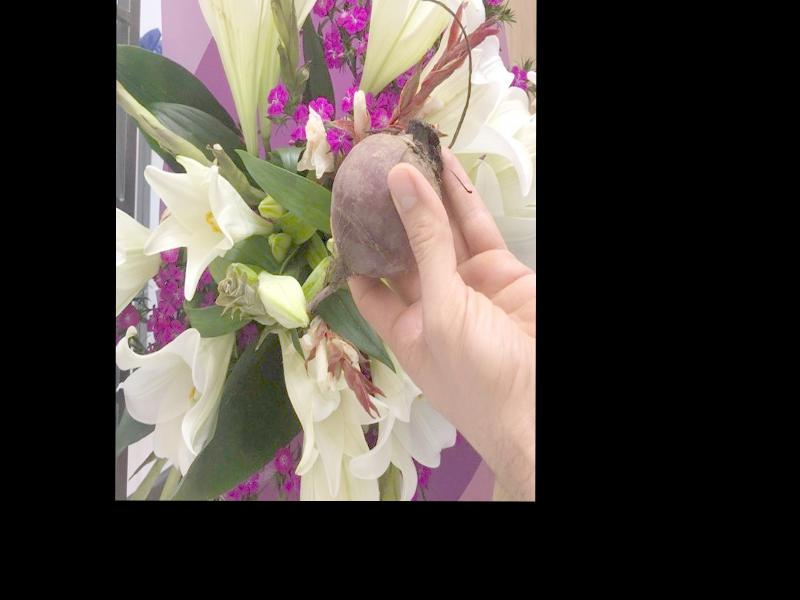Beet: (304, 119, 443, 318)
